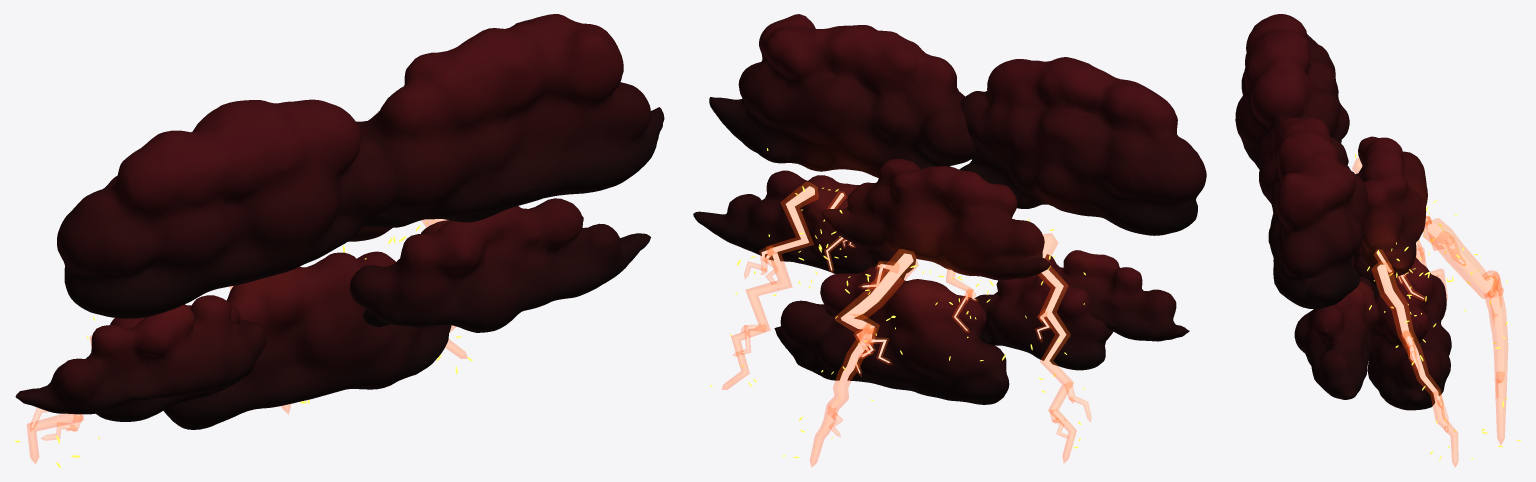
The model's file is storm_crimson.glb.
3 views of the same model, side by side, from view 1: azimuth 30°, elevation 25°; view 2: azimuth 150°, elevation 25°; view 3: azimuth 270°, elevation 25° (orthographic). The views are drawn at different scales.
Visible parts, largest first — view 1: Clouds, Bolt_4; view 2: Clouds, Bolt_3, Bolt_1, Bolt_4, Bolt_5, Bolt_2; view 3: Clouds, Bolt_3, Bolt_1, Bolt_2, Bolt_4.
Boxes of the visible parts, box(x1,y1,x2,y2) form: Clouds: box(15, 14, 664, 429); Bolt_4: box(14, 317, 99, 467); Clouds: box(693, 14, 1206, 404); Bolt_3: box(782, 249, 918, 466); Bolt_1: box(710, 148, 838, 389); Bolt_4: box(1002, 219, 1091, 462); Bolt_5: box(922, 268, 993, 361); Bolt_2: box(795, 187, 855, 286); Clouds: box(1235, 14, 1451, 410); Bolt_3: box(1423, 218, 1520, 447); Bolt_1: box(1367, 242, 1473, 467); Bolt_2: box(1369, 246, 1436, 327); Bolt_4: box(1352, 153, 1448, 299).
Bounding box in the file's own units: 15.46 × 10.72 × 8.13.
